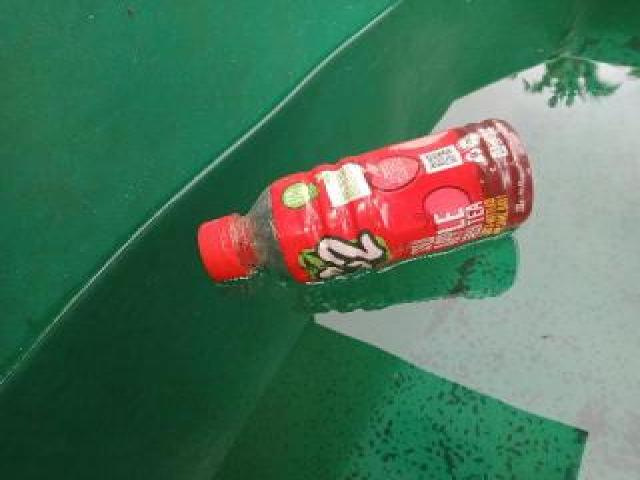Bottle: (189, 113, 542, 291)
